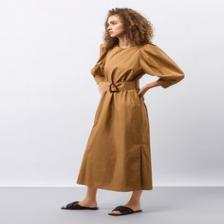brown: (77, 44, 184, 192)
